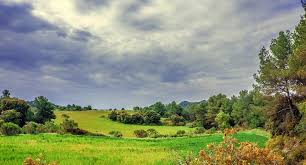field: (4, 103, 299, 160)
sky: (1, 2, 283, 96)
tree: (253, 18, 306, 141)
